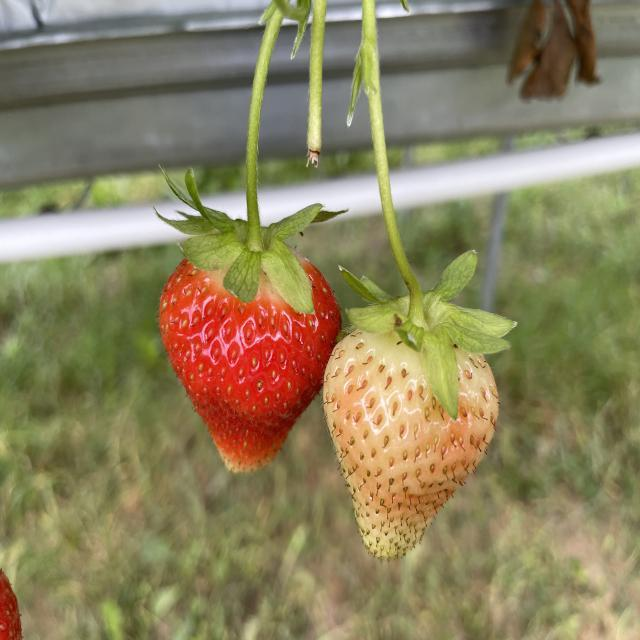stem: (348, 56, 512, 416), (161, 7, 331, 310)
strawberryNR: (324, 332, 495, 559)
strawberryR: (160, 260, 337, 471), (0, 572, 20, 639)
